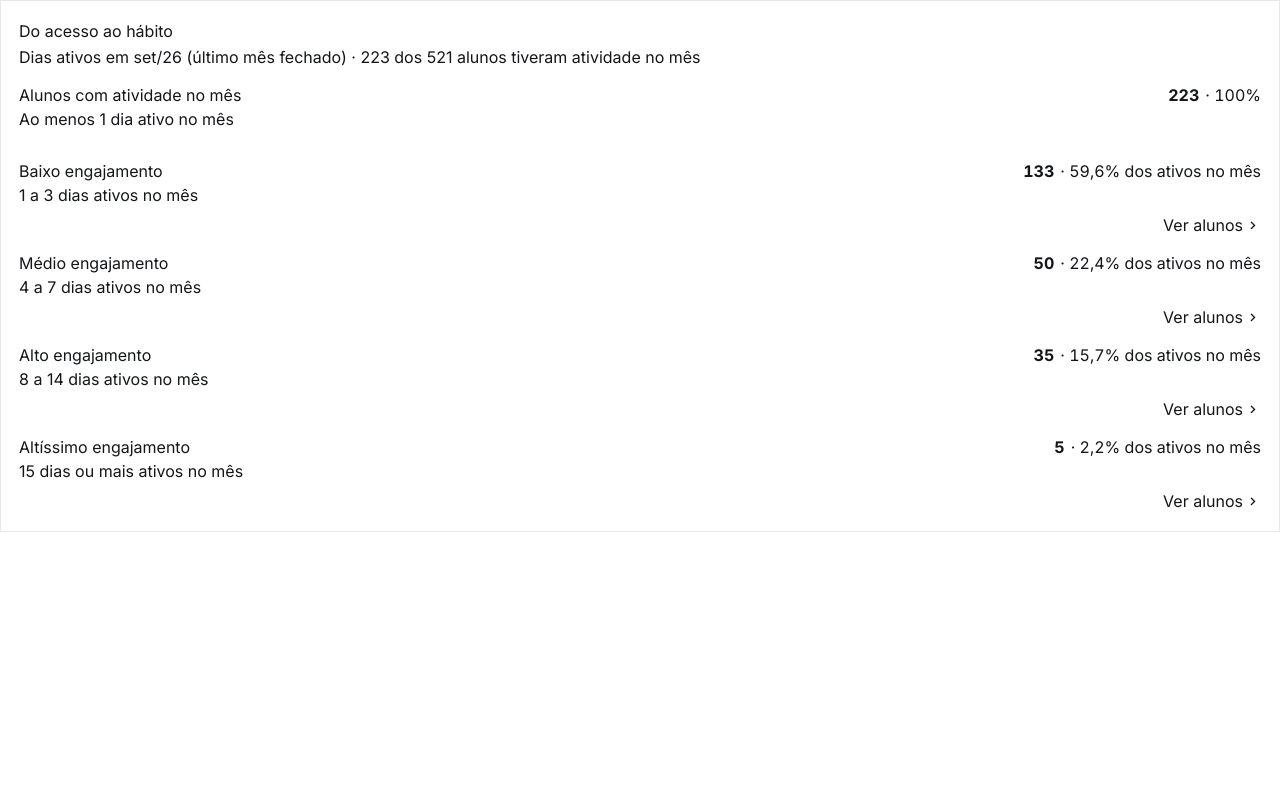
DoAcessoAoHabito — pop-up da faixa › clicar em alto abre o pop-up e consulta habito_alto (20 por página)
Click the button with test id "habito-faixa-alto". click: (85, 355)
box: [11,337,1269,427]
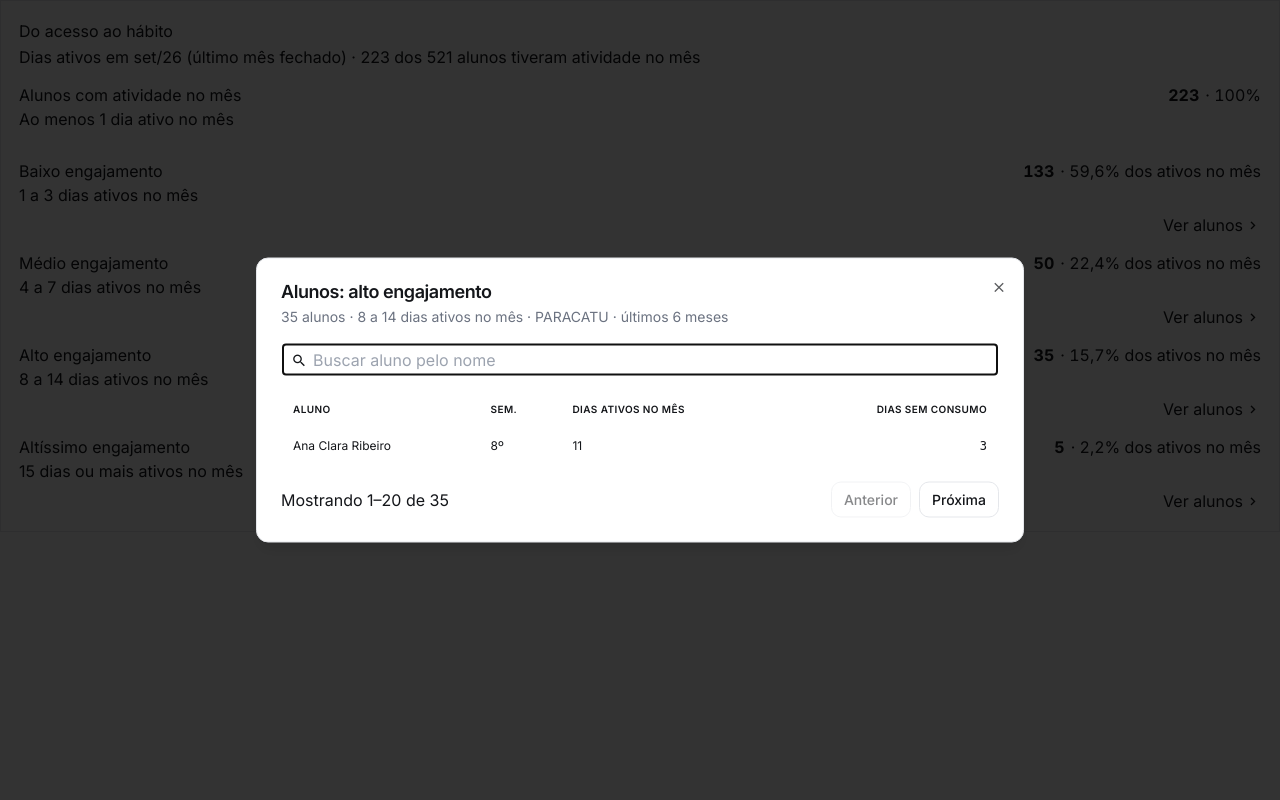
Expected: the dialog with test id "lista-alunos-dialog" is shown, [256,258,1024,542]
